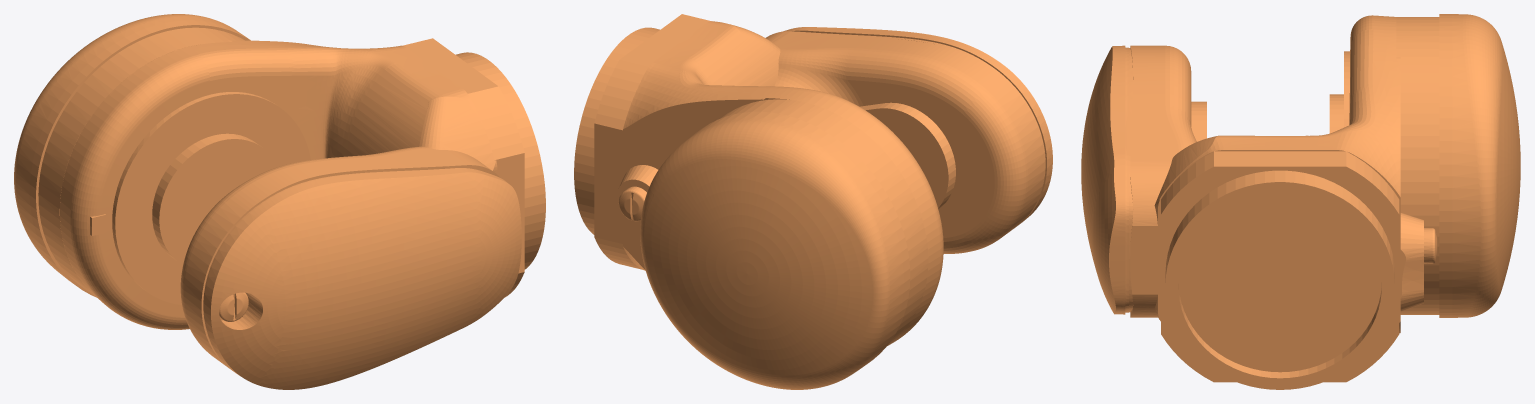
The picture shows the model from 3 angles, left to right: view 1: azimuth 30°, elevation 25°; view 2: azimuth 150°, elevation 25°; view 3: azimuth 270°, elevation 25°; orthographic projection. The views are drawn at different scales.
Visible parts, largest first — view 1: Link_5; view 2: Link_5; view 3: Link_5.
Boxes of the visible parts, x1,y1,x2,y2 form: Link_5: (14, 14, 545, 389); Link_5: (574, 14, 1052, 389); Link_5: (1081, 14, 1520, 389).
Bounding box in the file's own units: 0.304 × 0.3065 × 0.212.
